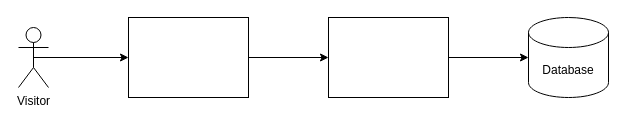
Image size: 626x126. Some labels were removed from this diagram. Each missing label, with the box of its shape:
API: (328, 16, 448, 98)
Frontend: (128, 16, 248, 98)
